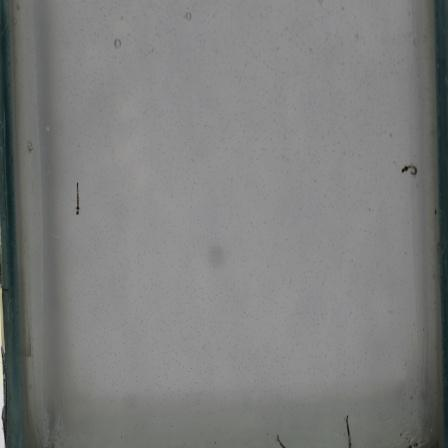Jentik-Nyamuk: (70, 178, 84, 219), (397, 161, 422, 182), (342, 412, 356, 448), (273, 433, 288, 448)
